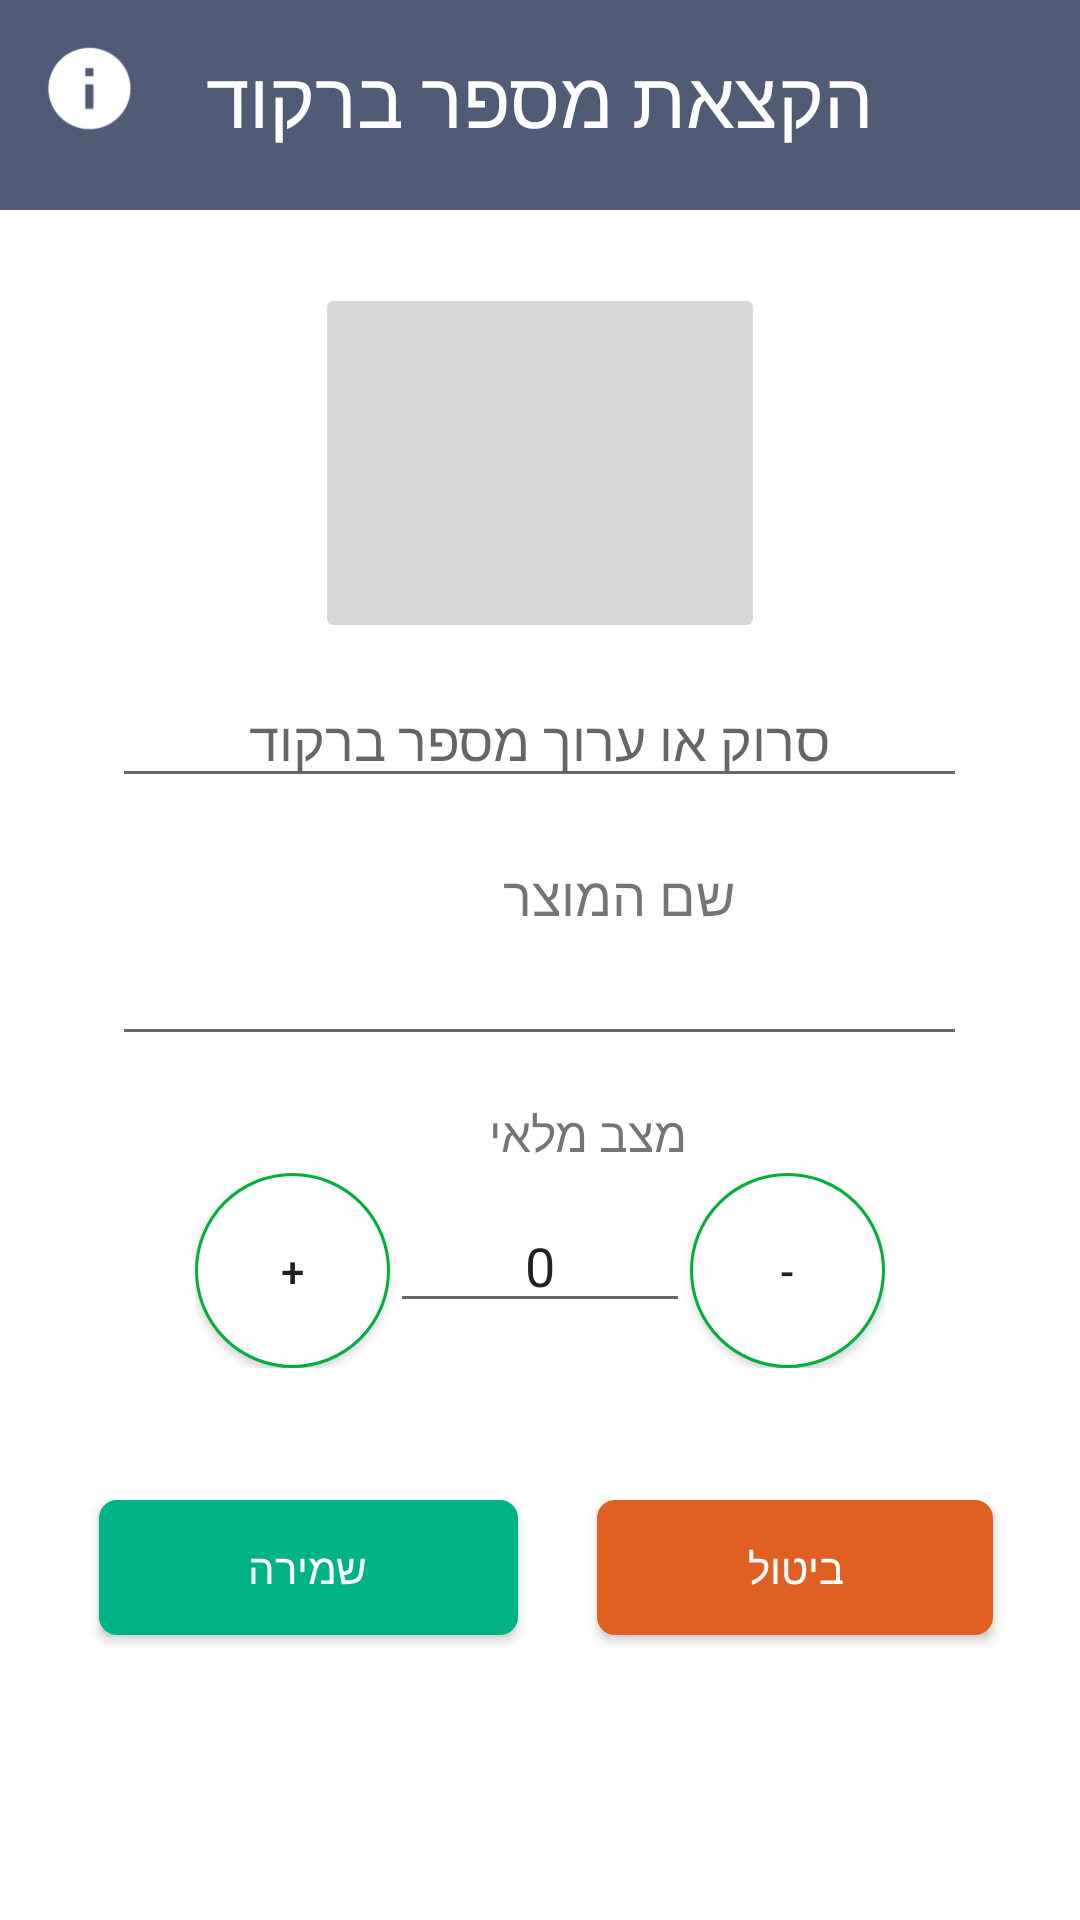

Named icons in this screenshot (1080*1920) and their bounding boxes, bbox=(x1, y1, x2, y2):
infor: bbox=(48, 47, 131, 130)
